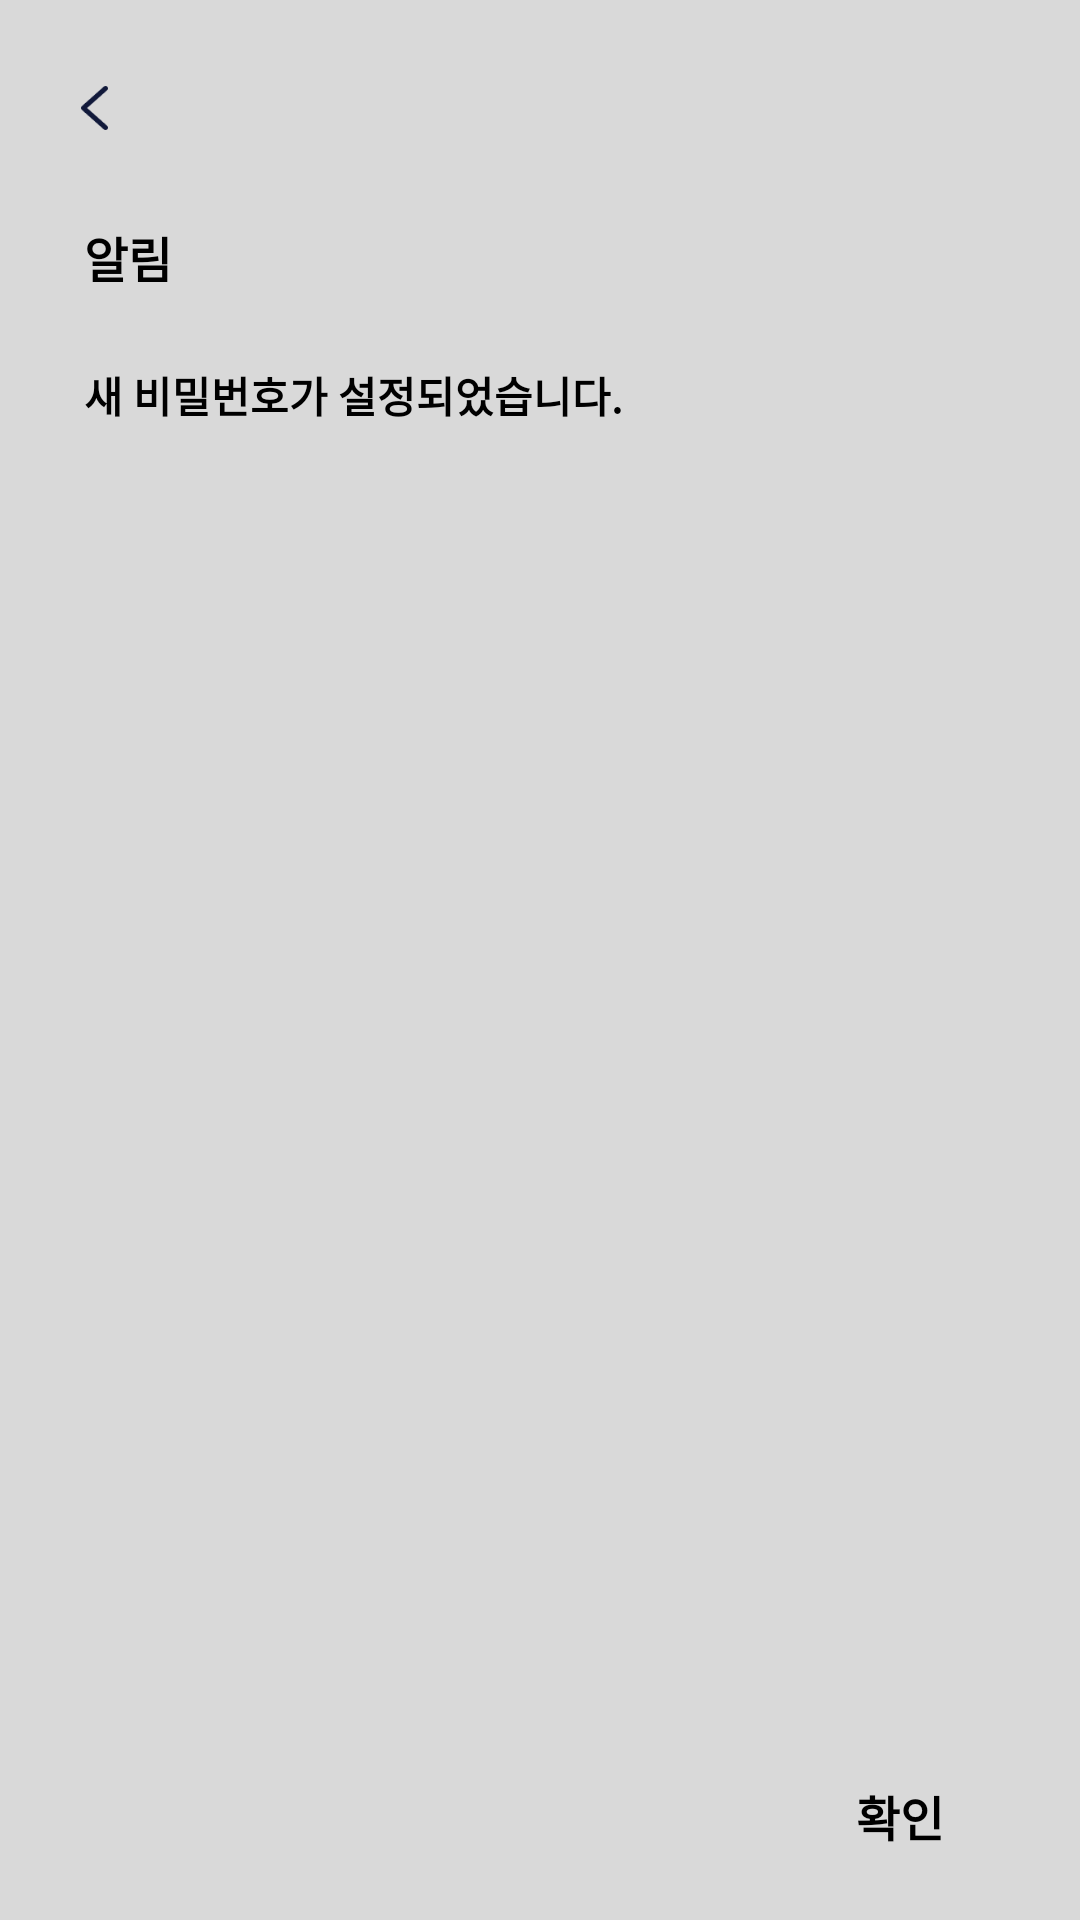

Icon bounding boxes for this 1080w x 1920h phone screenshot, format (x1, y1, x2, y2):
arrow: (81, 86, 108, 130)
